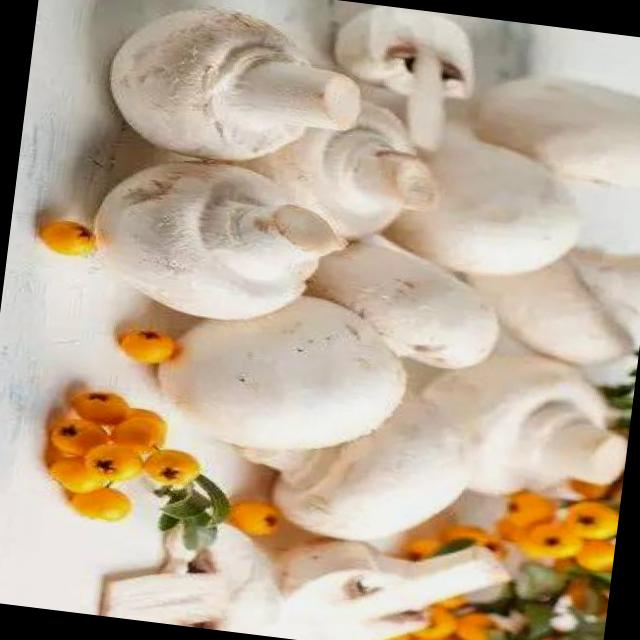Agaricus bisporus: (82, 150, 346, 333), (102, 0, 368, 178), (148, 283, 408, 460), (428, 346, 636, 516), (265, 86, 447, 256), (312, 233, 512, 373), (387, 134, 584, 276), (326, 3, 485, 156)
